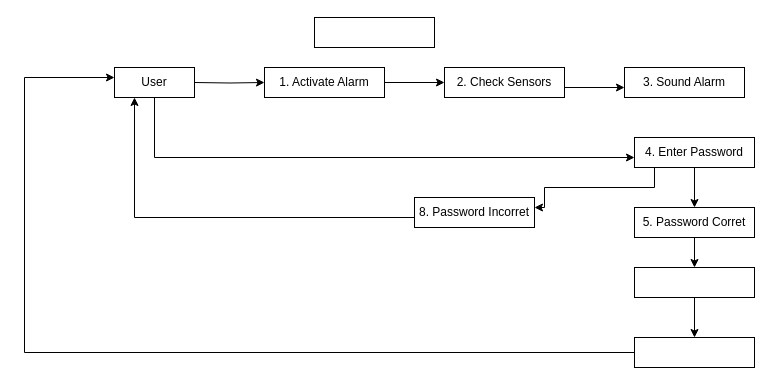
This 772x385 diagram has some shape labels left out. The shapes that lost their labels are listed below. From the top down, each one's centre as x and y in pixels, then its label:
pixel 374 32: Alarm System
pixel 694 282: 6. Disable Alarm
pixel 694 352: 7. Reset Alarm
